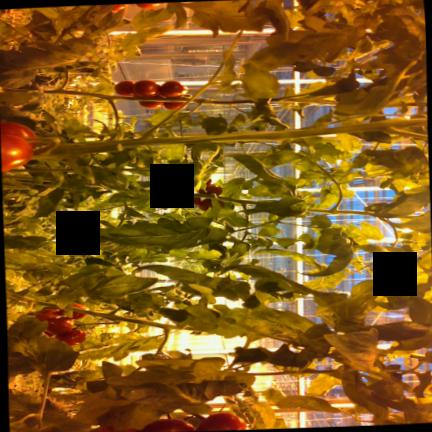MainStem: (47, 118, 426, 155), (72, 307, 199, 331), (43, 90, 189, 102), (6, 291, 56, 306), (308, 208, 378, 217), (217, 196, 256, 205)
tomato: (0, 134, 33, 172), (0, 122, 37, 148), (196, 413, 246, 431), (139, 419, 195, 432), (46, 317, 73, 335), (55, 330, 86, 345), (132, 80, 159, 97), (160, 81, 187, 97), (35, 309, 62, 321), (198, 199, 224, 211), (115, 81, 134, 96), (199, 184, 222, 195), (72, 303, 87, 319), (139, 101, 163, 109), (163, 101, 184, 110), (183, 196, 200, 206), (137, 3, 161, 9), (170, 181, 184, 190)
